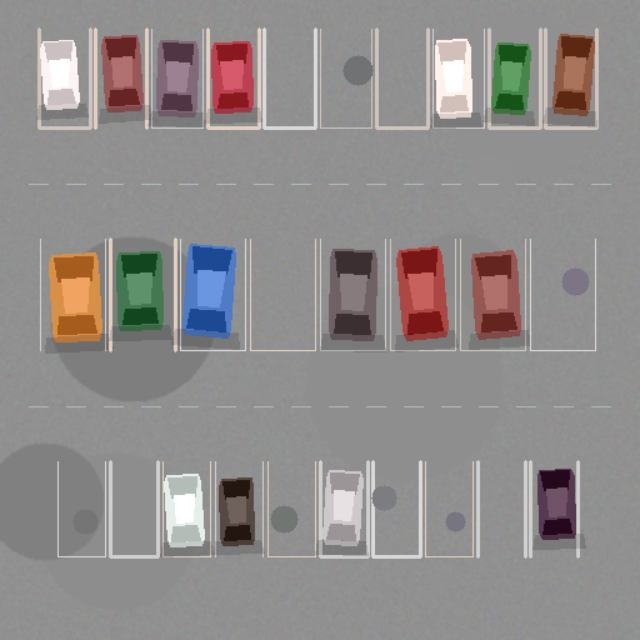space-empty: (250, 239, 315, 350), (530, 239, 595, 350), (376, 29, 428, 127), (264, 29, 315, 127), (320, 29, 371, 127), (57, 461, 105, 556), (267, 461, 315, 556), (425, 461, 473, 556), (477, 461, 525, 556), (110, 461, 157, 556), (373, 461, 420, 556)
space-occupied: (40, 239, 105, 350), (110, 239, 175, 350), (180, 239, 245, 350), (320, 239, 385, 350), (390, 239, 455, 350), (460, 239, 525, 350), (432, 29, 484, 127), (39, 29, 90, 127), (95, 29, 146, 127), (151, 29, 202, 127), (208, 29, 259, 127), (489, 29, 540, 127), (545, 29, 596, 127), (215, 461, 263, 556), (163, 461, 210, 556), (320, 461, 367, 556), (530, 461, 577, 556)
